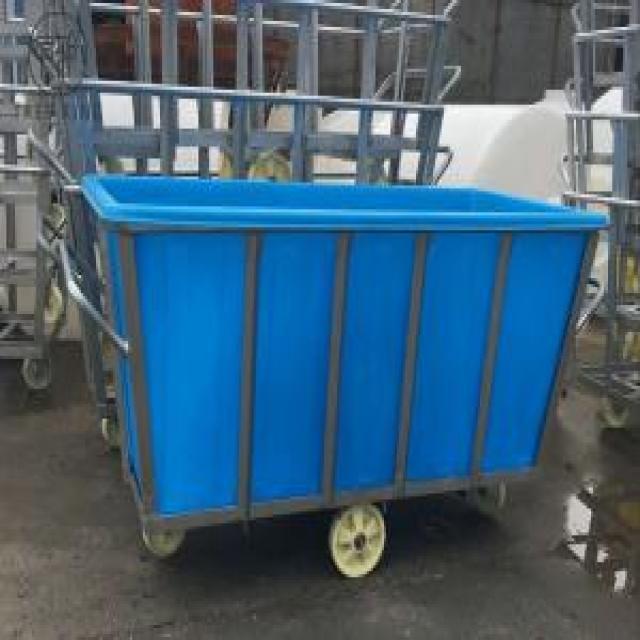basket: (61, 176, 609, 585)
